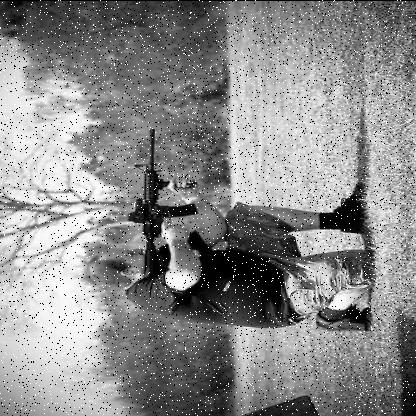rifle: (90, 110, 202, 287)
